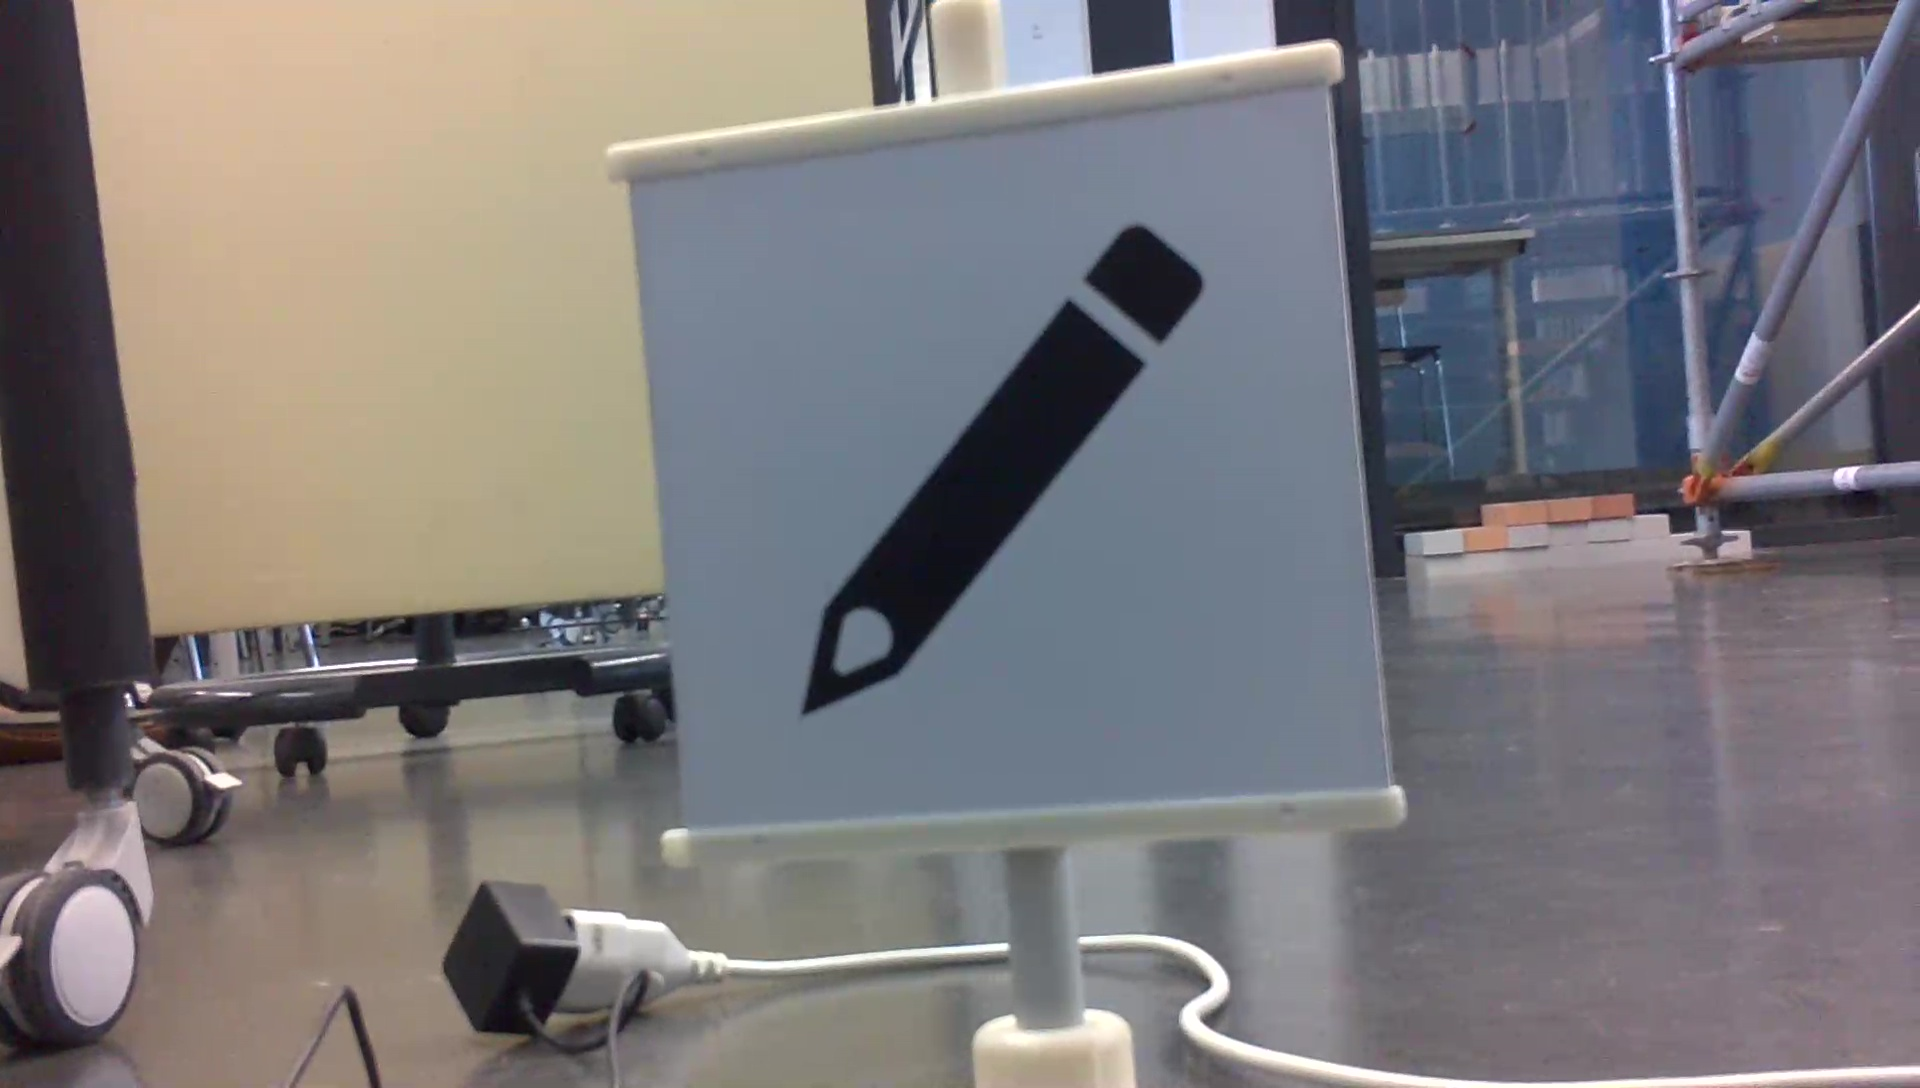pencil: (779, 218, 1216, 729)
